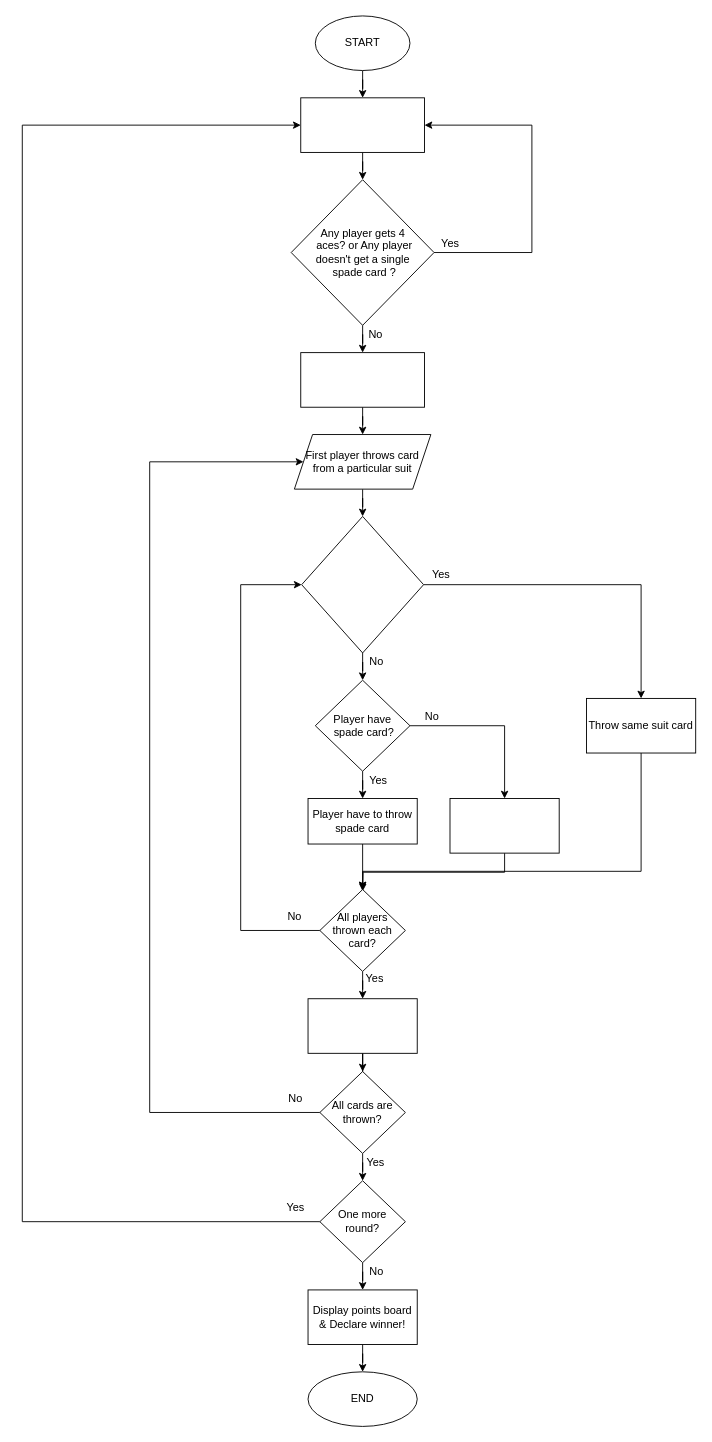
This 712x1442 diagram has some shape labels left out. The centre of each missing label's shape, as x and y in pixels:
Assign points according to priority order: the point at 362,1025
Player can throw any card: the point at 504,825
player following have the same suit card?: the point at 362,584
Players start throwing card in ANCW fashion: the point at 362,379
Shuffle the cards & Distribute among 4 members: the point at 362,124
